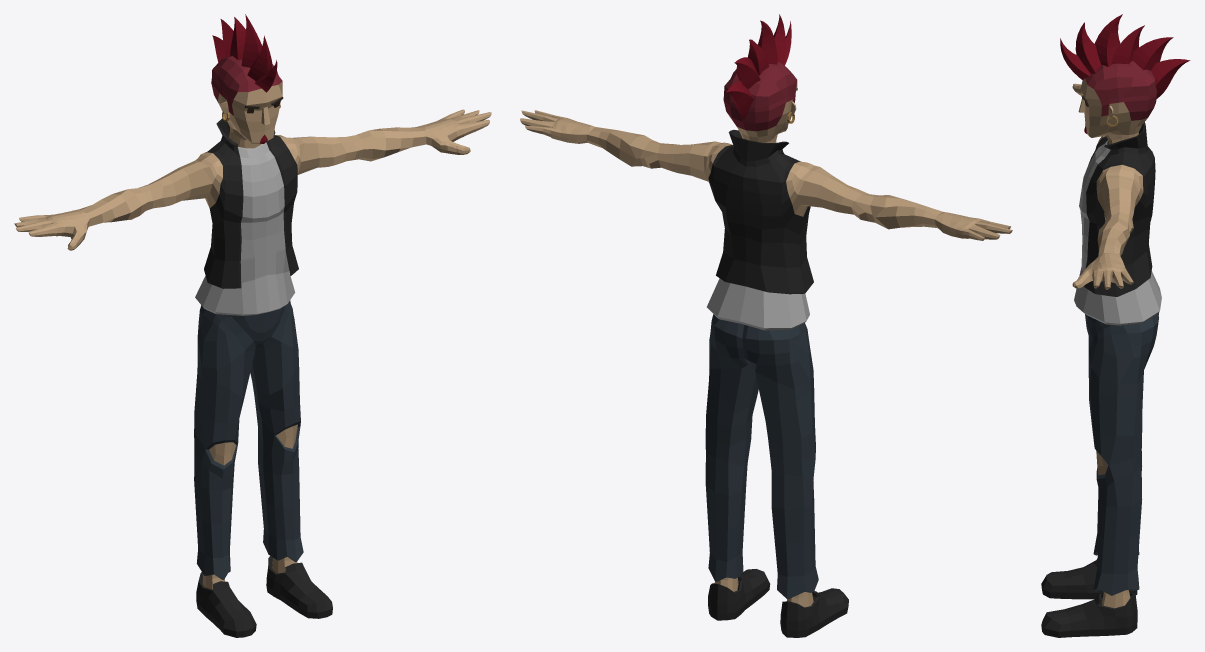
File: punk.glb
The picture shows the model from 3 angles, left to right: view 1: azimuth 30°, elevation 25°; view 2: azimuth 150°, elevation 25°; view 3: azimuth 270°, elevation 25°; orthographic projection. The views are drawn at different scales.
Visible parts, largest first — view 1: Punk_Legs_0908e9, Punk_Body_4e430a, Punk_Body_6fe436, Punk_Body_8e139d, Punk_Feet, Punk_Head_6f2c20, Punk_Head_acd0a7, Punk_Head_7af878, Punk_Legs_37f8e6; view 2: Punk_Legs_0908e9, Punk_Body_8e139d, Punk_Body_4e430a, Punk_Feet, Punk_Body_6fe436, Punk_Head_7af878, Punk_Head_acd0a7, Punk_Head_6f2c20; view 3: Punk_Legs_0908e9, Punk_Body_8e139d, Punk_Feet, Punk_Body_4e430a, Punk_Head_acd0a7, Punk_Body_6fe436, Punk_Head_7af878, Punk_Head_6f2c20, Punk_Feet_c1e61d.
Boxes of the visible parts, x1,y1,x2,y2 form: Punk_Legs_0908e9: (194, 300, 303, 579); Punk_Body_4e430a: (14, 109, 491, 250); Punk_Body_6fe436: (195, 142, 295, 315); Punk_Body_8e139d: (204, 118, 298, 288); Punk_Feet: (196, 556, 332, 637); Punk_Head_6f2c20: (217, 81, 282, 148); Punk_Head_acd0a7: (212, 14, 277, 143); Punk_Head_7af878: (211, 56, 282, 115); Punk_Legs_37f8e6: (209, 424, 297, 465); Punk_Legs_0908e9: (705, 314, 818, 598); Punk_Body_8e139d: (708, 130, 813, 294); Punk_Body_4e430a: (520, 110, 1012, 240); Punk_Feet: (708, 569, 848, 637); Punk_Body_6fe436: (707, 278, 809, 330); Punk_Head_7af878: (723, 62, 796, 131); Punk_Head_acd0a7: (726, 14, 791, 119); Punk_Head_6f2c20: (737, 80, 797, 142); Punk_Legs_0908e9: (1085, 313, 1158, 595); Punk_Body_8e139d: (1083, 122, 1155, 296); Punk_Feet: (1041, 558, 1137, 637); Punk_Body_4e430a: (1072, 83, 1143, 289); Punk_Head_acd0a7: (1060, 14, 1190, 133); Punk_Body_6fe436: (1074, 140, 1161, 325); Punk_Head_7af878: (1085, 61, 1157, 120); Punk_Head_6f2c20: (1078, 78, 1147, 144); Punk_Feet_c1e61d: (1102, 590, 1130, 608).
Size of the model in its own units: 1.68 by 1.97 by 0.4462.
